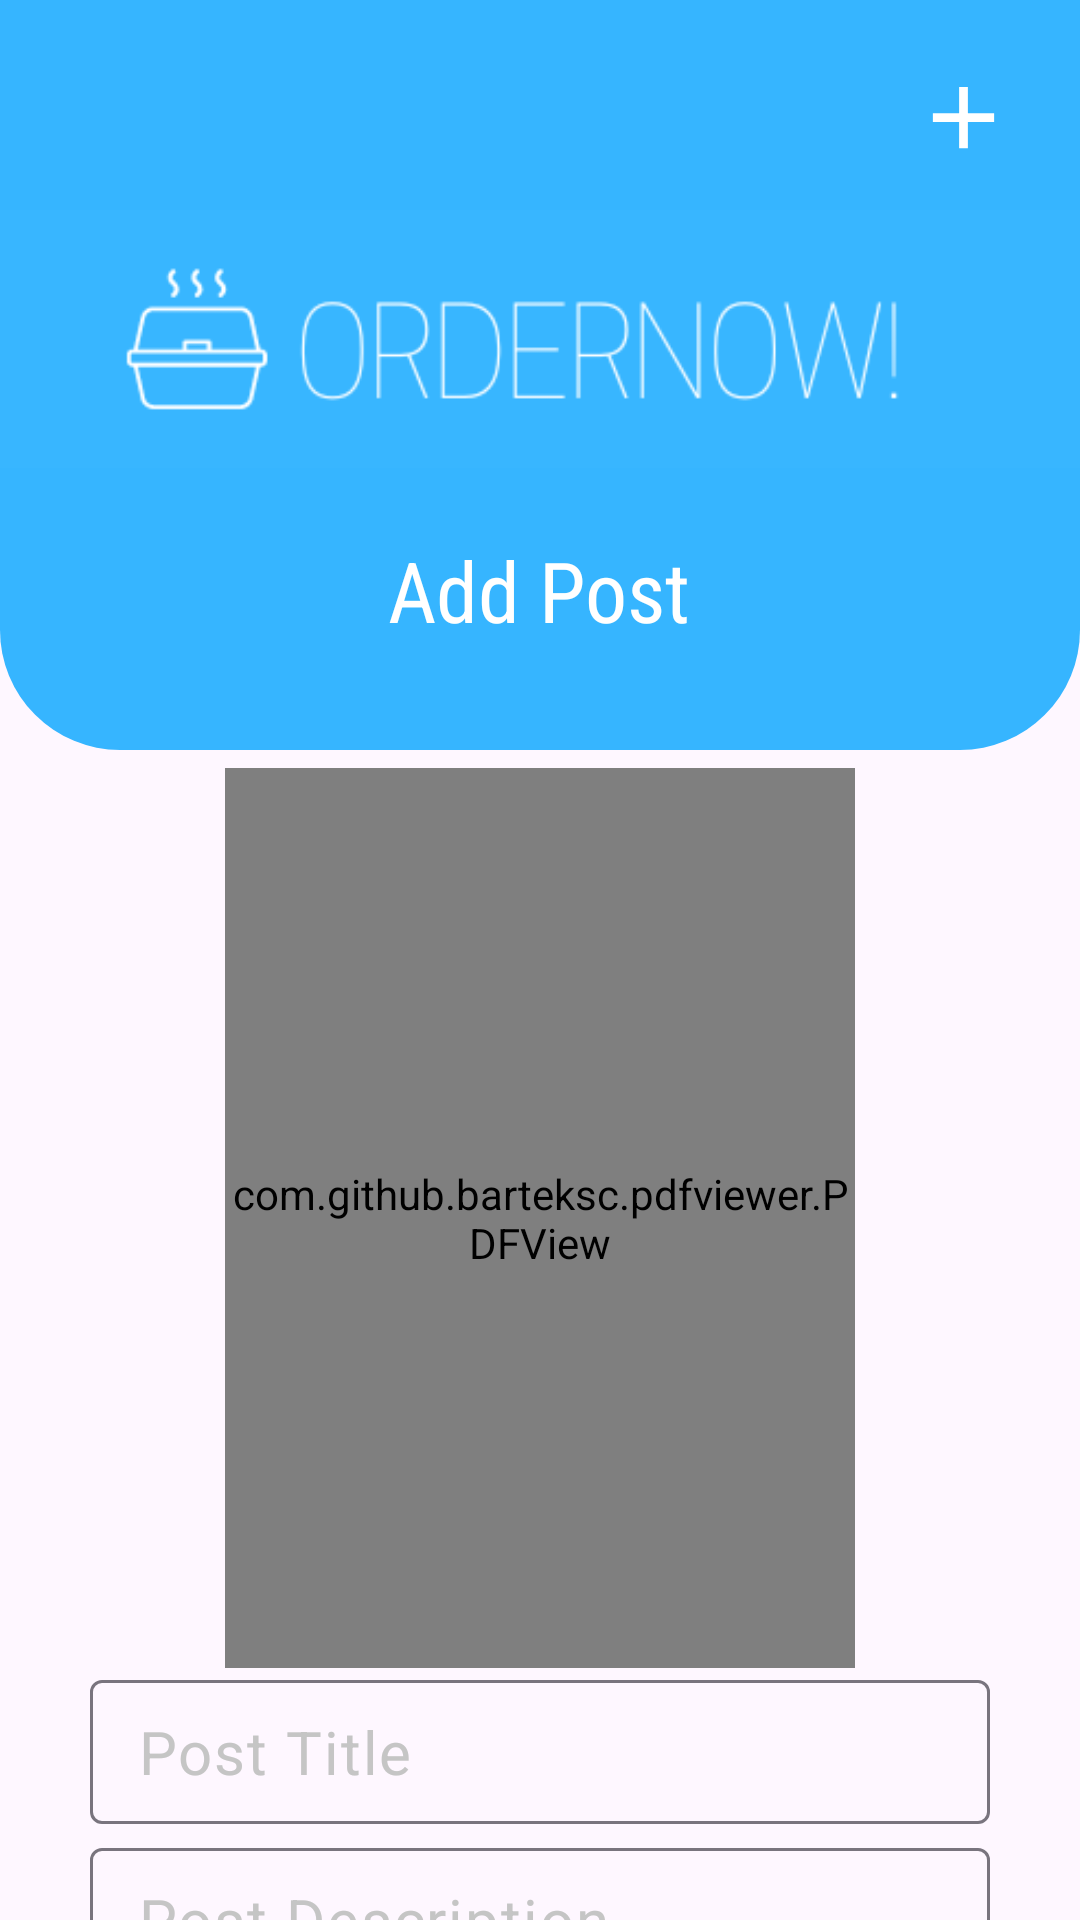

Screen size 1080 x 1920. Icon name, then its box in pixels as bbox(x1, y1, x2, y2):
addcontent: bbox(932, 87, 995, 149)
